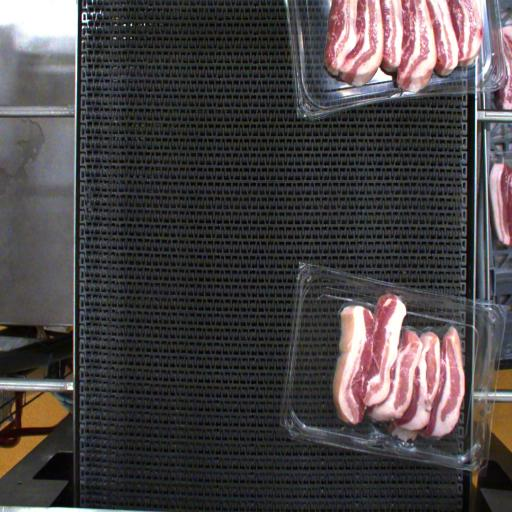unsealed: (334, 298, 470, 344), (337, 413, 427, 455)
